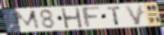8: (39, 9, 58, 30)
F: (79, 6, 102, 29)
H: (61, 8, 84, 29)
M: (14, 9, 42, 31)
T: (106, 6, 123, 26)
V: (124, 4, 145, 26)
